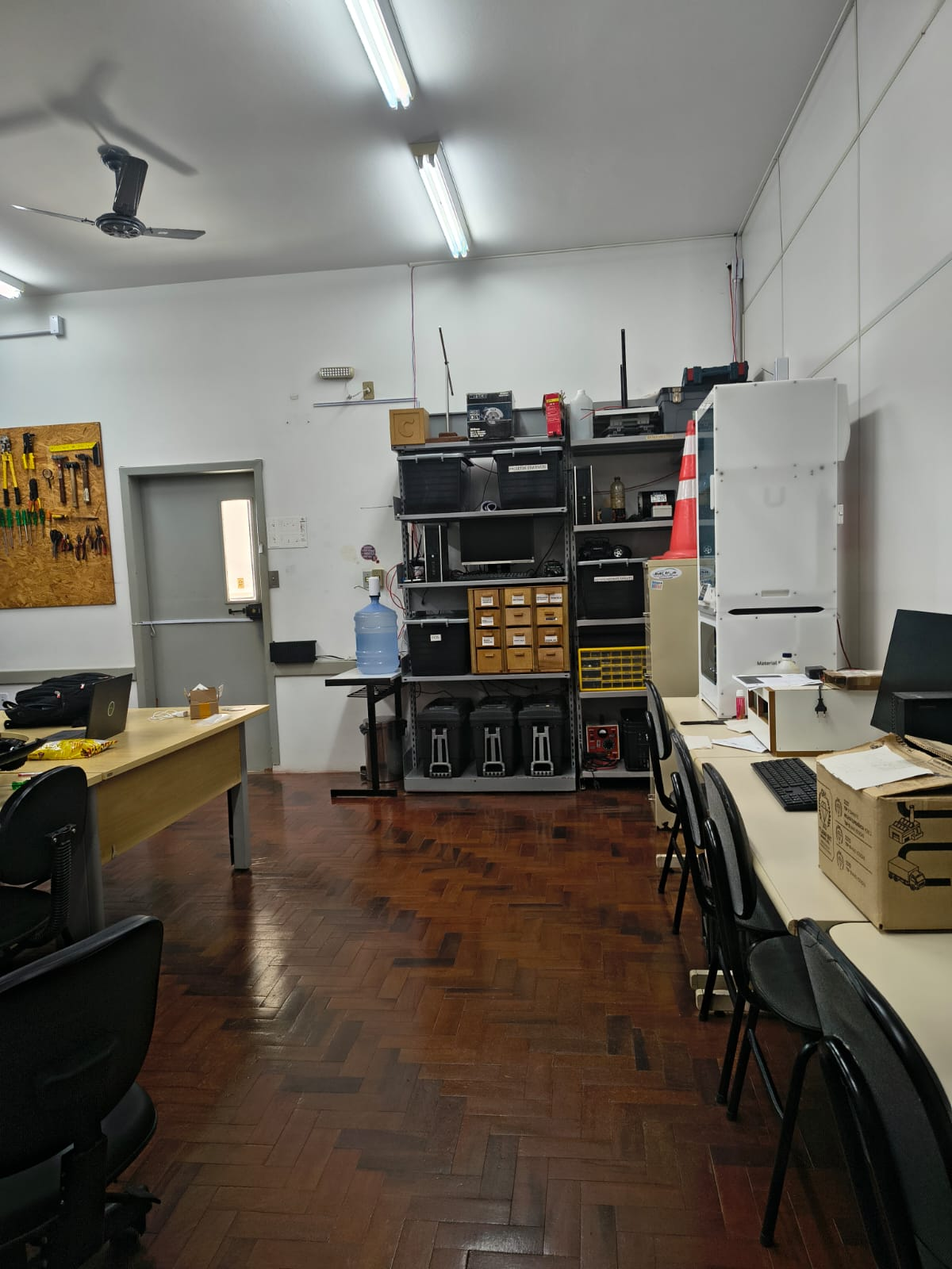cone: (651, 413, 707, 569)
